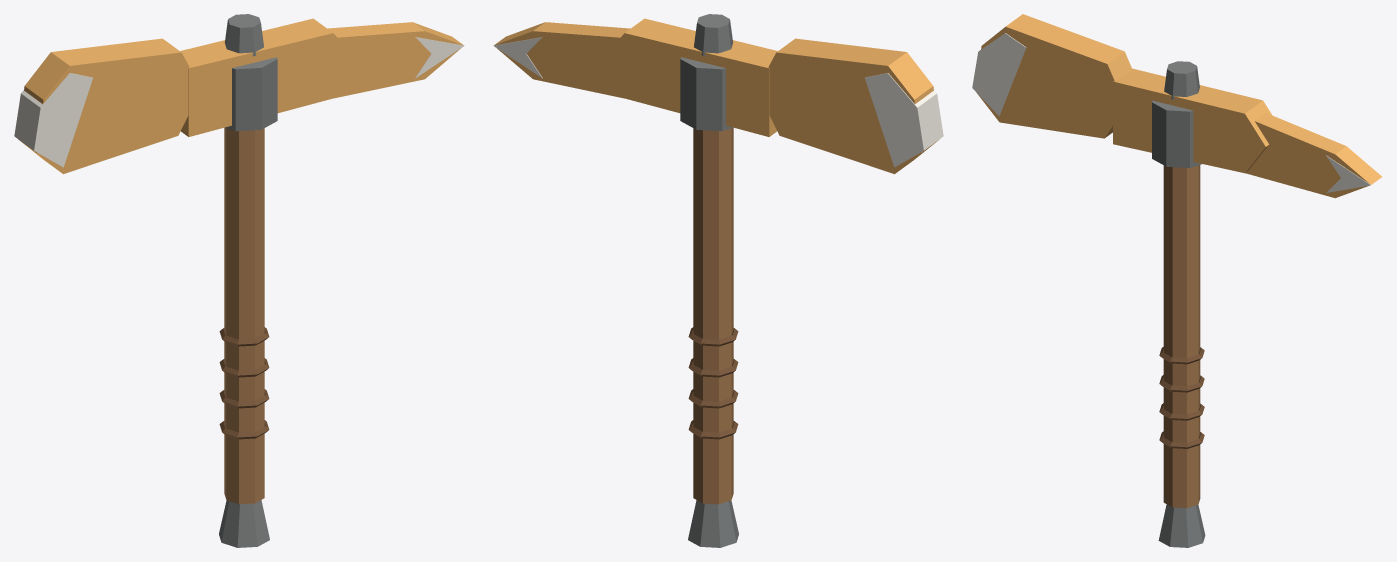
Rendered from t6_hammer.glb.
The picture shows the model from 3 angles, left to right: view 1: azimuth 30°, elevation 25°; view 2: azimuth 150°, elevation 25°; view 3: azimuth 330°, elevation 25°; orthographic projection. The views are drawn at different scales.
Parts seen in each view (by area): view 1: WoodHandle, HammerHead, HeadCore, ChiselPoint, HammerFace, HeadSocket, BottomPommel, TopCap, ChiselTip; view 2: WoodHandle, HammerHead, HeadCore, ChiselPoint, HammerFace, HeadSocket, BottomPommel, TopCap, ChiselTip; view 3: WoodHandle, HammerHead, HeadCore, ChiselPoint, HammerFace, HeadSocket, BottomPommel, TopCap, ChiselTip.
Part boxes in pixels (x1,y1,x2,y2): WoodHandle: (224,127,264,504); HammerHead: (18,38,189,174); HeadCore: (180,18,356,136); ChiselPoint: (327,22,463,98); HammerFace: (14,73,92,167); HeadSocket: (225,57,277,131); BottomPommel: (219,500,269,547); TopCap: (224,14,263,56); ChiselTip: (415,37,464,78); WoodHandle: (693,127,733,504); HammerHead: (768,38,939,174); HeadCore: (601,18,777,136); ChiselPoint: (494,22,630,98); HammerFace: (865,73,943,167); HeadSocket: (680,57,732,131); BottomPommel: (688,500,738,547); TopCap: (694,14,733,56); ChiselTip: (493,37,542,78); WoodHandle: (1163,165,1200,508); HammerHead: (976,14,1131,138); HeadCore: (1113,68,1272,173); ChiselPoint: (1245,113,1381,198); HammerFace: (972,33,1026,116); HeadSocket: (1152,100,1201,167); BottomPommel: (1158,504,1205,547); TopCap: (1164,61,1199,99); ChiselTip: (1326,155,1382,192).
Size of the model in its own units: 1.32 by 1.52 by 0.18.
